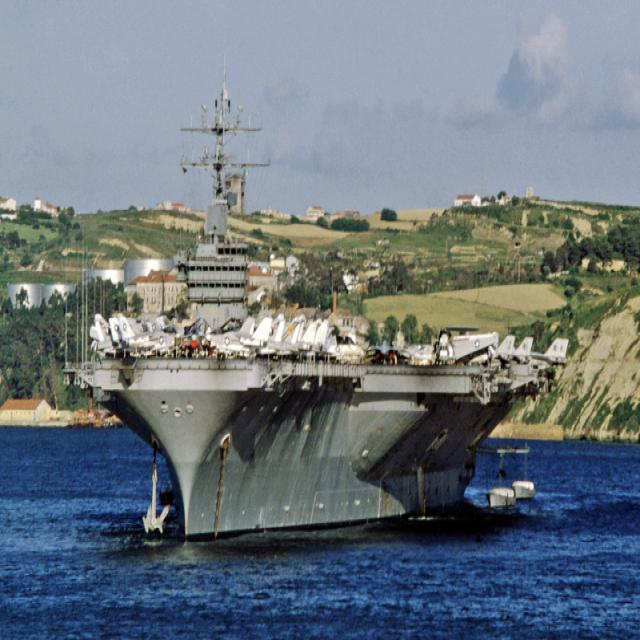Portanaves: (68, 65, 579, 553)
